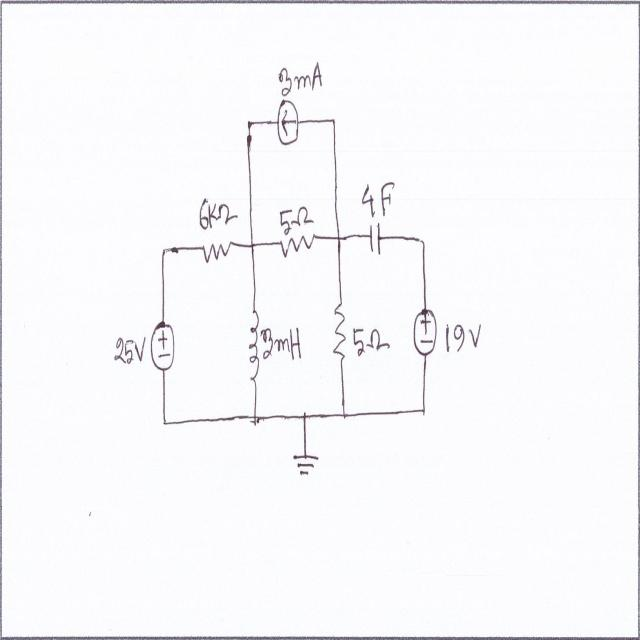capacitor: (369, 216, 385, 264)
current_source: (276, 94, 304, 152)
ground: (288, 445, 322, 483)
inductor: (248, 308, 261, 387)
resistor: (330, 299, 348, 366), (278, 231, 317, 261), (199, 234, 230, 268)
voltage_source: (149, 318, 178, 376), (412, 309, 440, 362)
